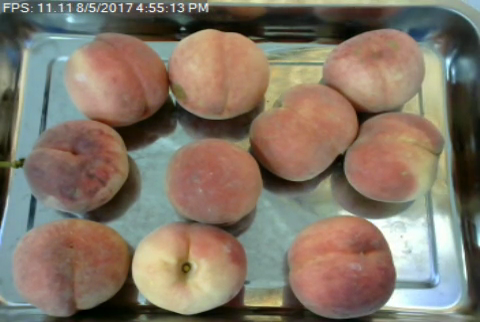Peach: (13, 217, 129, 316), (248, 80, 361, 181), (287, 215, 397, 318), (134, 222, 246, 316), (25, 118, 132, 212), (65, 32, 169, 126), (319, 25, 427, 115), (342, 112, 447, 203), (170, 30, 274, 120), (164, 137, 262, 226)
